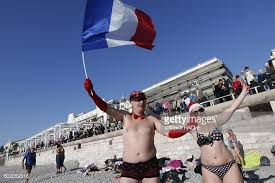French Flag: (81, 1, 156, 51)
